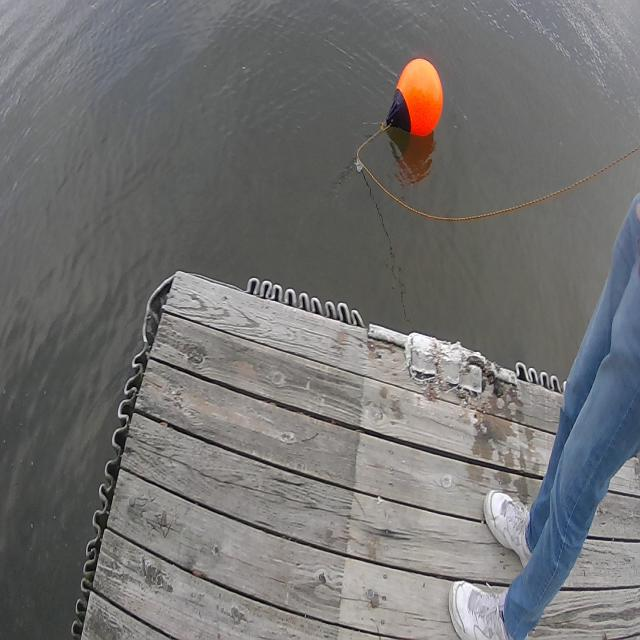Buoy: (382, 45, 448, 163)
